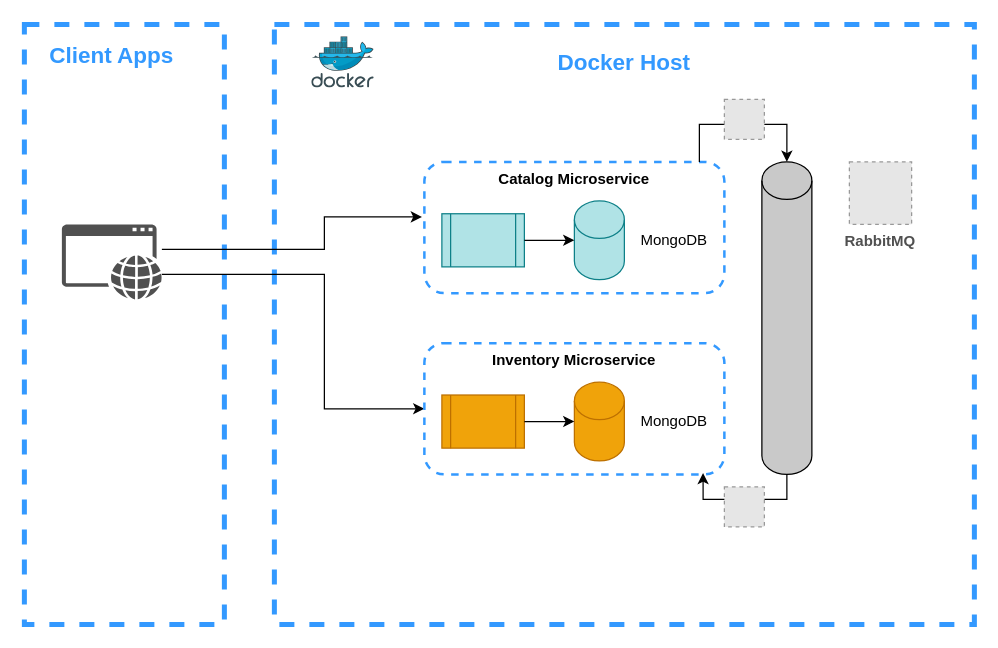
This 998x648 diagram has some shape labels left out. Grey dashed boxes stand in for pictures. The shapes that lost their labels are listed below. From the top down, each one's centre as x and y in pixels, then its label:
At pixel 111 261: "SimpleMicroservices Web Application React/Javascript".
At pixel 786 317: "Publish / Subscribe Channel Event Bus".
